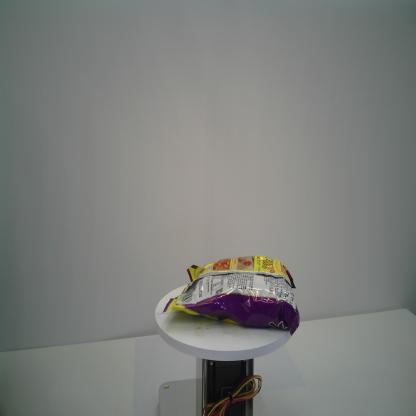Instant Noodles: (154, 254, 300, 336)
